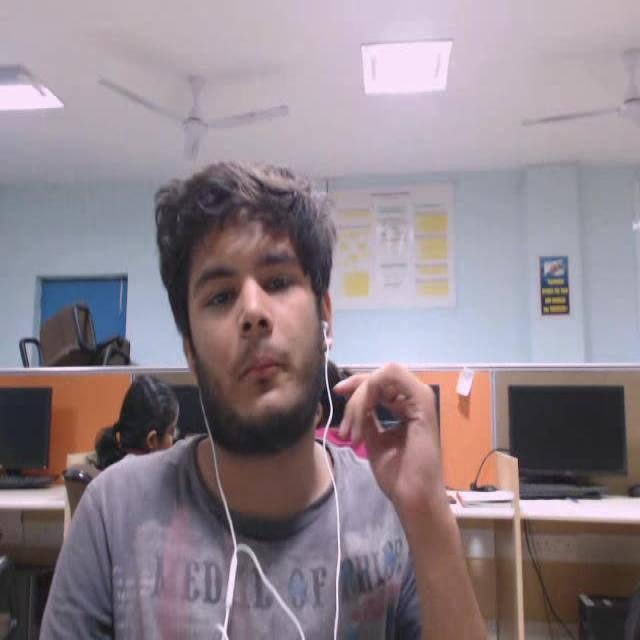Bored: (114, 140, 401, 490)
